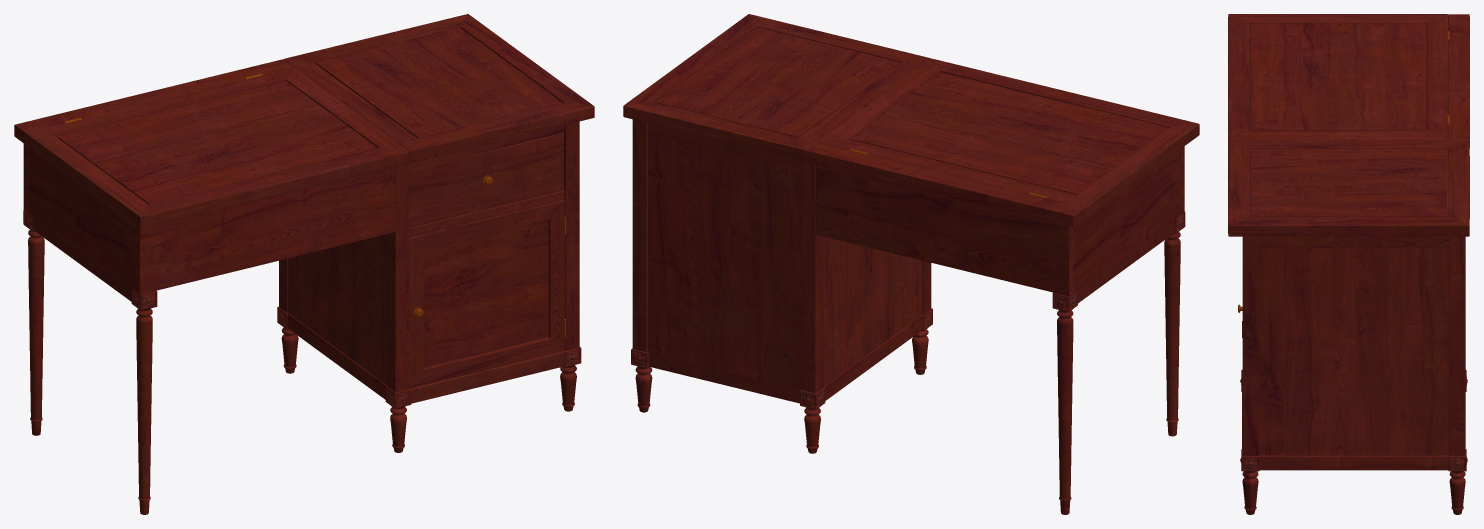
The model's file is sceneDraco.gltf.
3 renders of one model, left to right at view 1: azimuth 30°, elevation 25°; view 2: azimuth 150°, elevation 25°; view 3: azimuth 270°, elevation 25°, orthographic. The views are drawn at different scales.
Visible parts, largest first — view 1: YF10-15S101; view 2: YF10-15S101; view 3: YF10-15S101.
Boxes of the visible parts, bbox=[...] form: YF10-15S101: bbox=[14, 14, 594, 514]; YF10-15S101: bbox=[623, 14, 1199, 514]; YF10-15S101: bbox=[1228, 14, 1469, 514].
Size of the model in its own units: 120 by 78.31 by 57.91.
2 materials, 1 textured.
